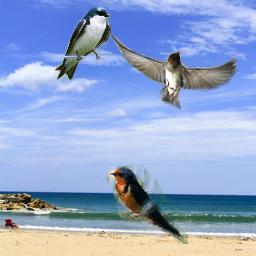Swallow: (107, 31, 240, 110), (107, 165, 188, 244), (54, 6, 111, 81)
